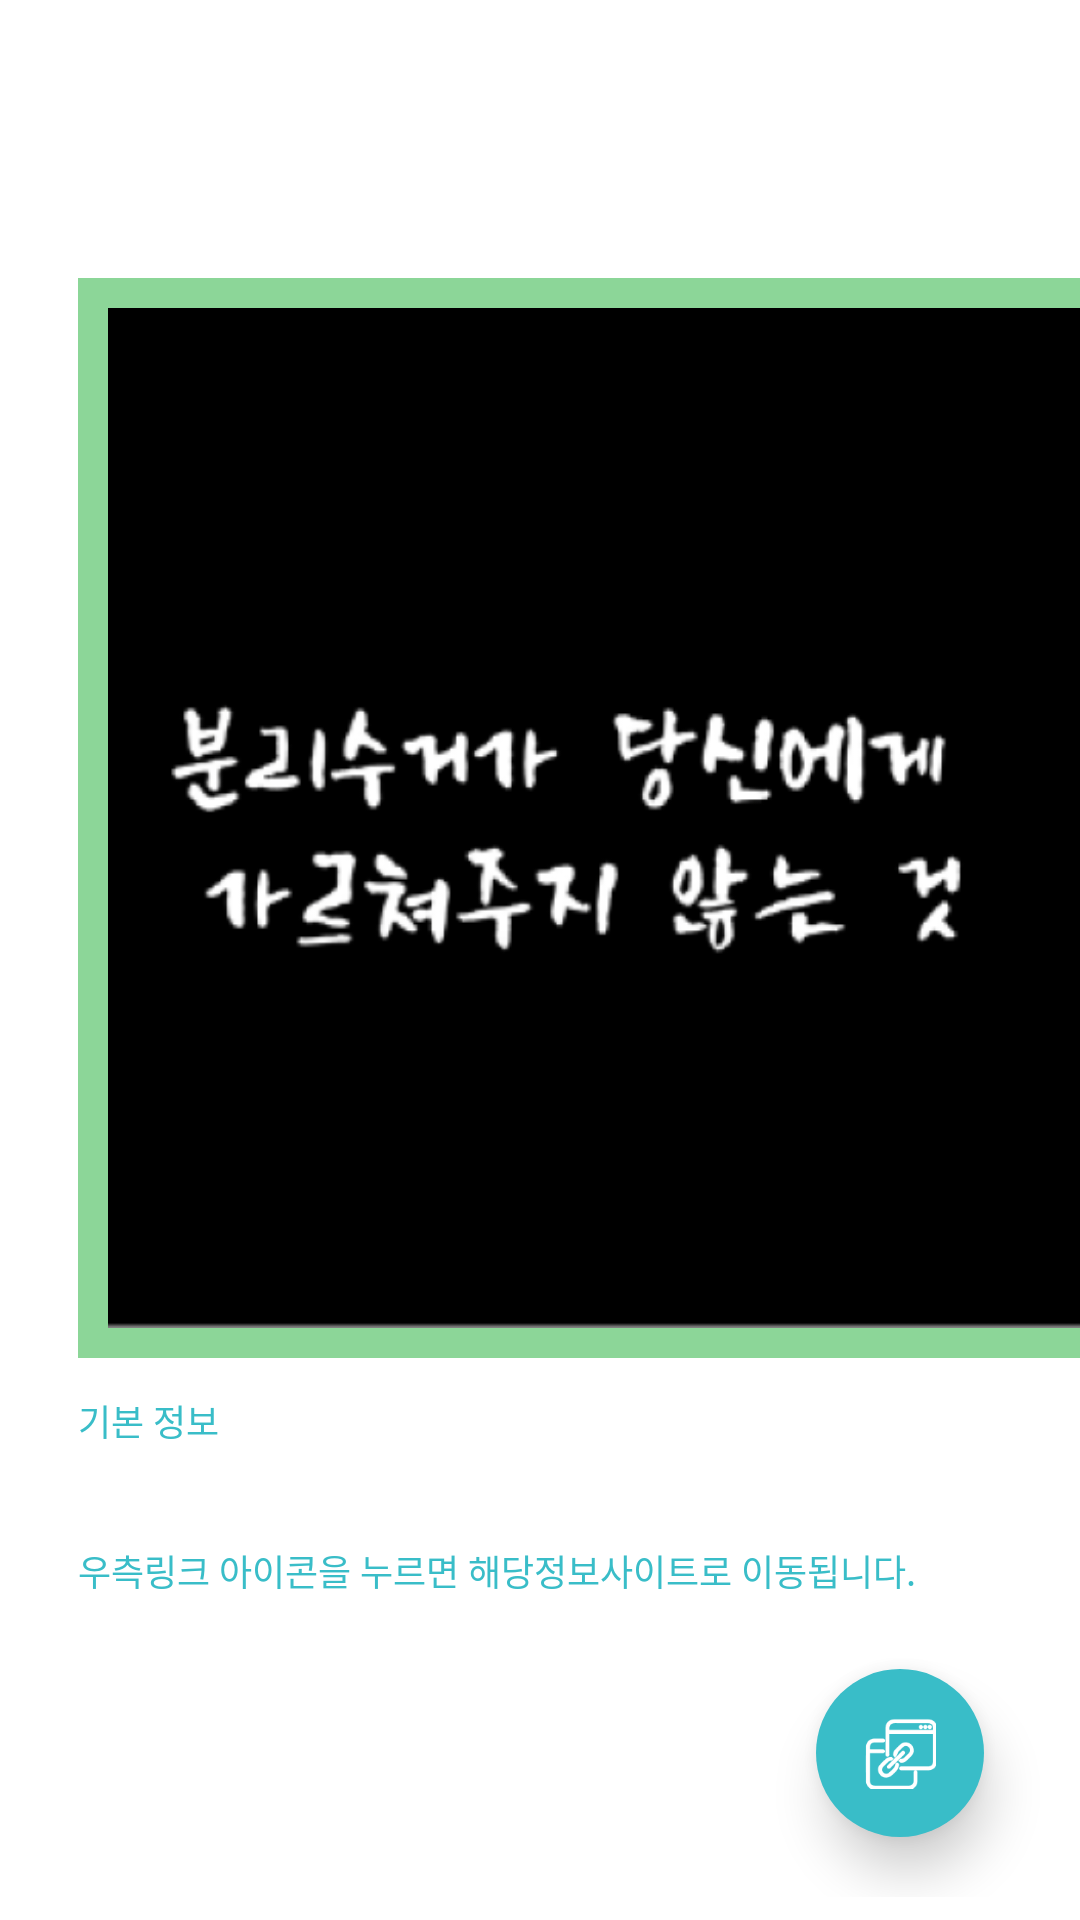

Where to tap for icons on this 1080*1920 app screen, as (x,y):
컨텐츠 링크 버튼 아이콘: (900,1753)
